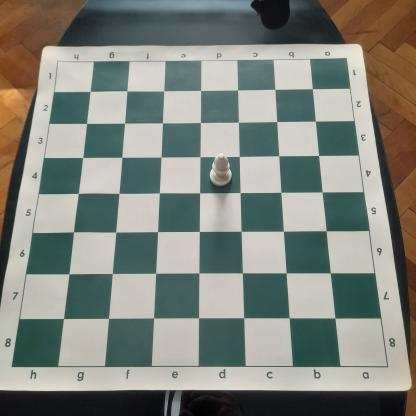white-bishop: (208, 153, 235, 188)
